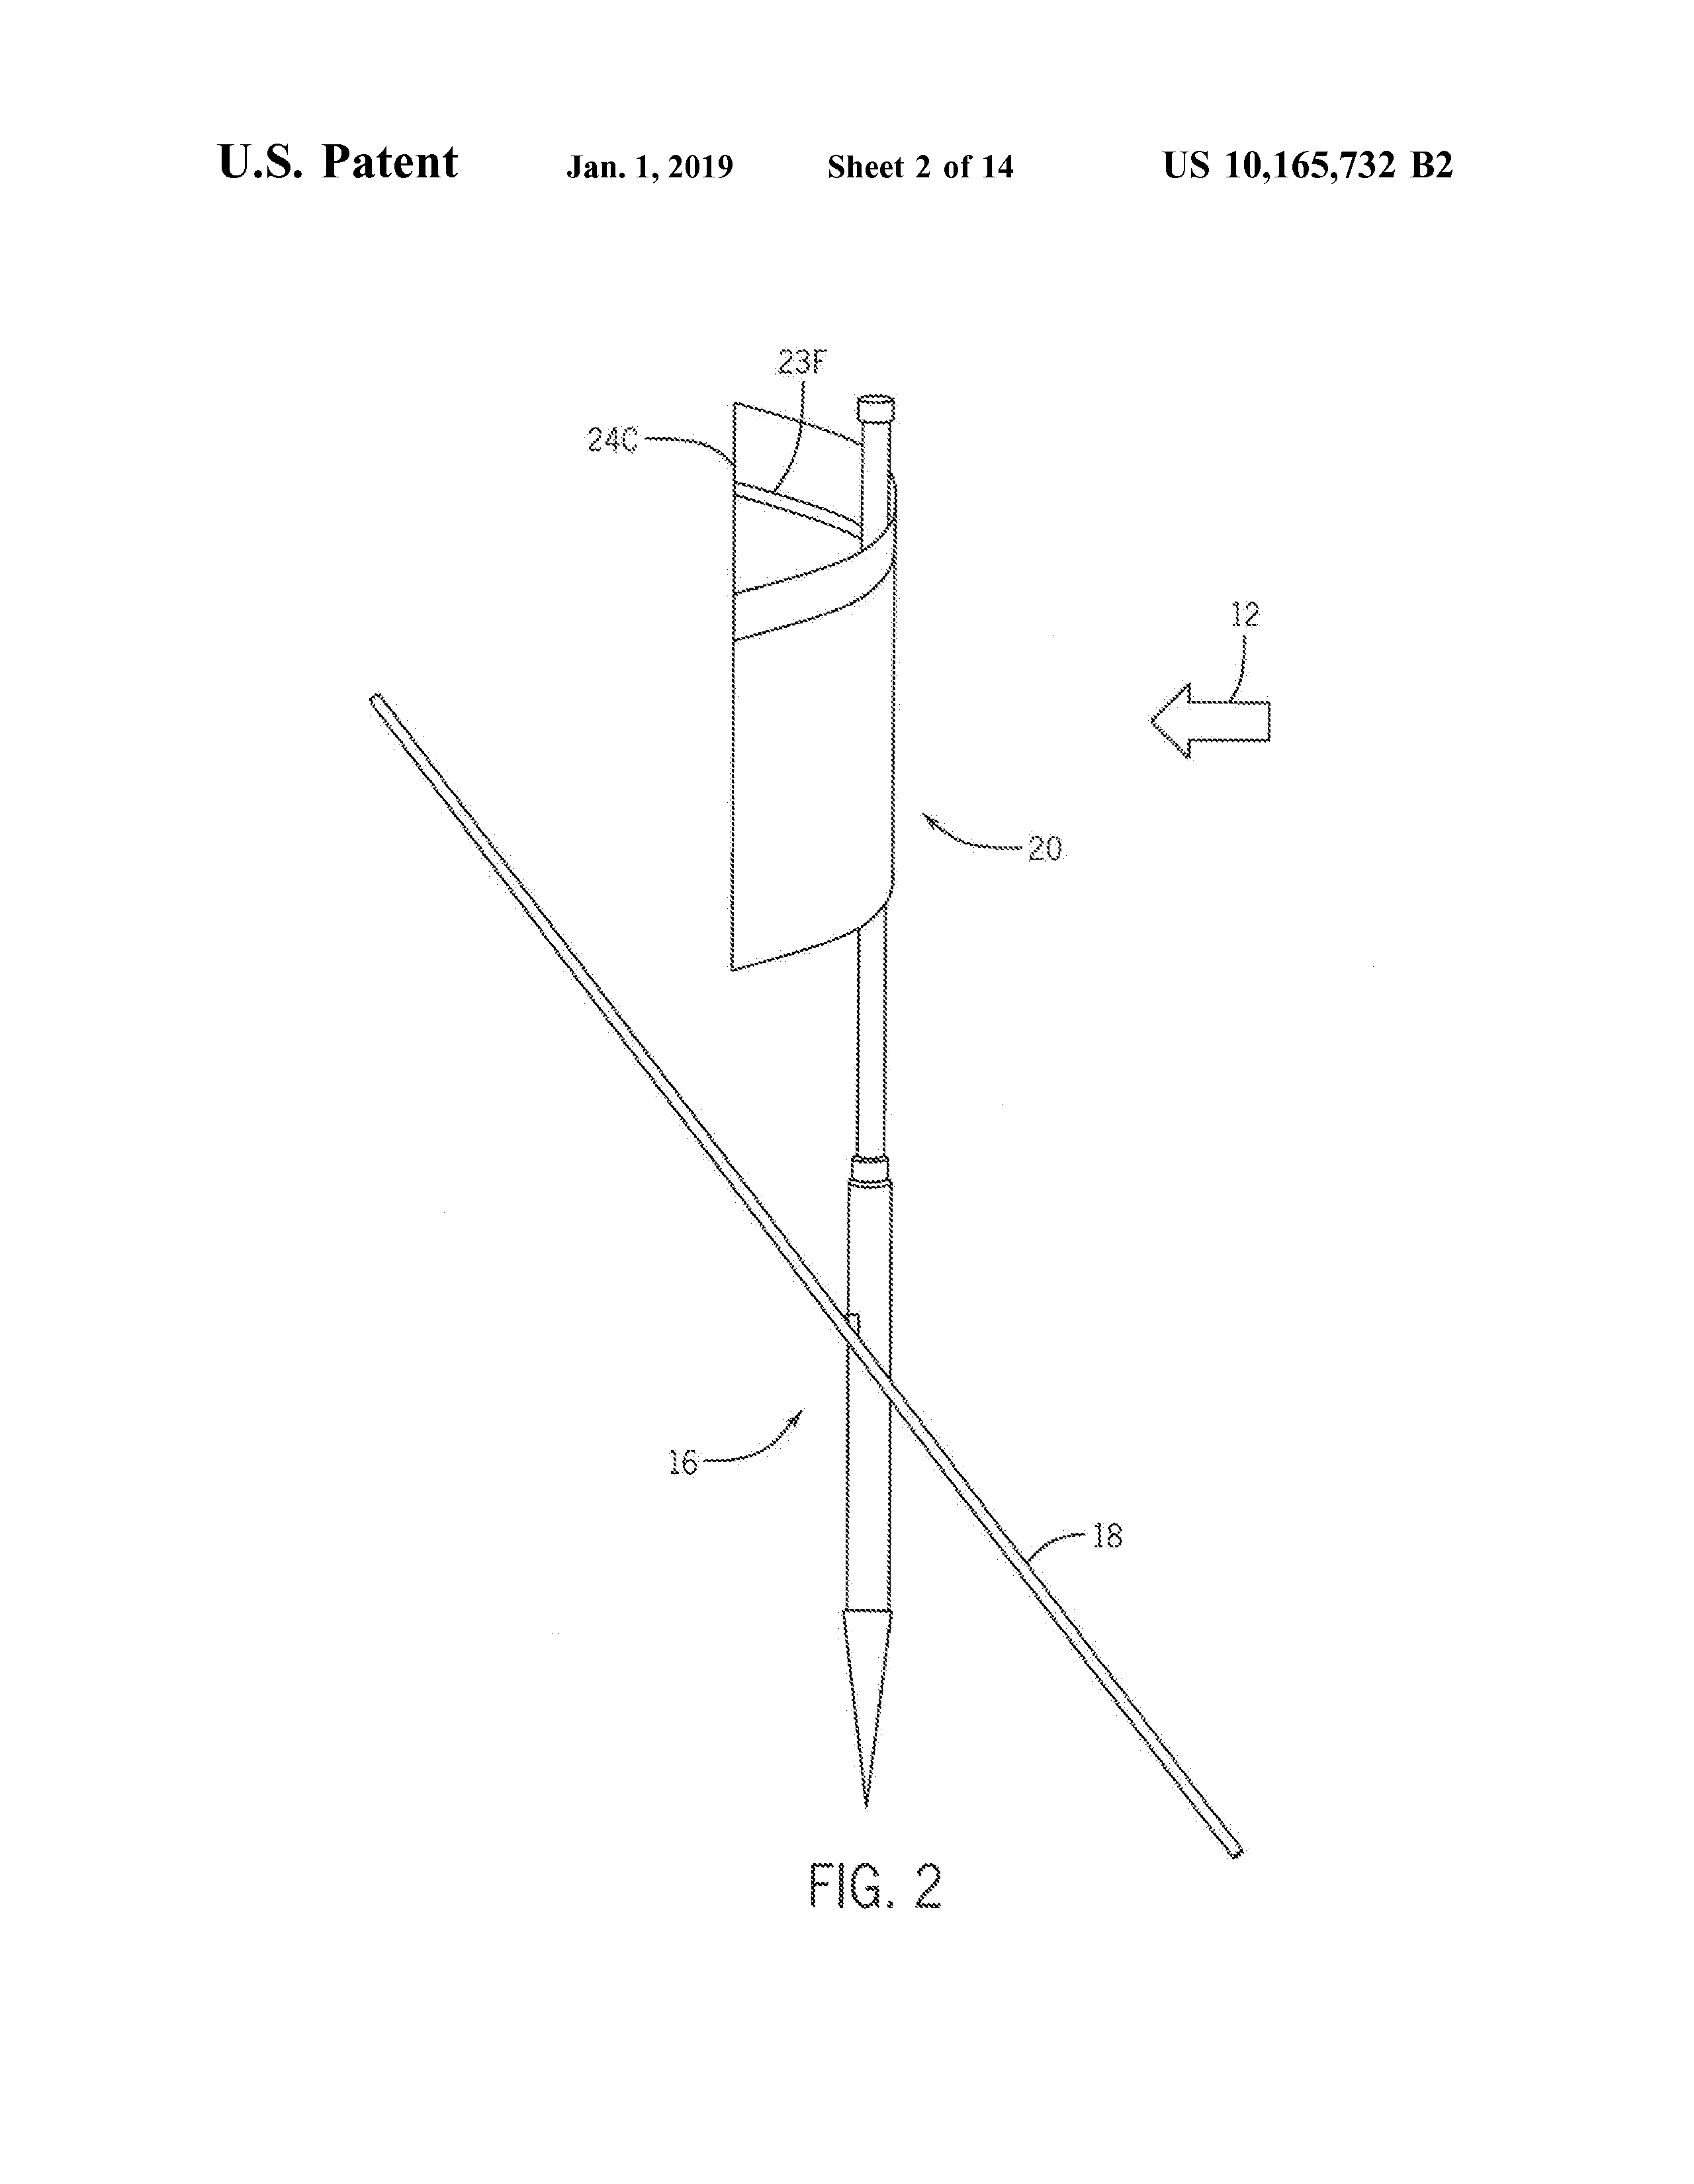patent image: (341, 340, 1308, 1945)
